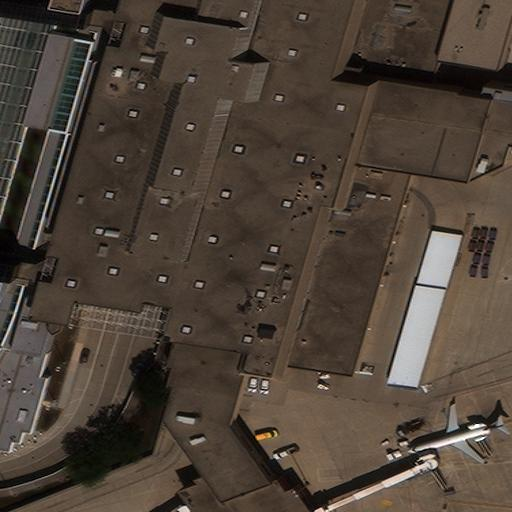Medium Civil Transport: (407, 405, 504, 464)
